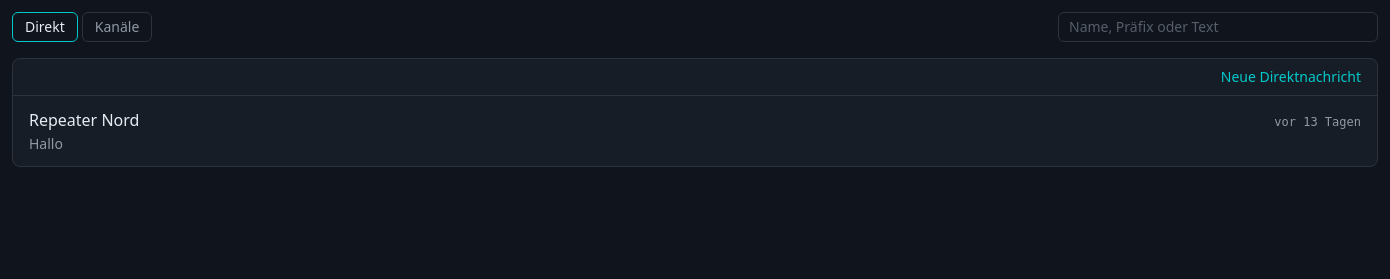
Scenario: Nachrichtenseite areas › opens a thread with compose inside, not a global send form
This screenshot has width=1390, height=279.
Expected: the heading "Senden" is not shown
Step 1. Click the text "Repeater Nord" → click(84, 120), box [29,109,139,131]
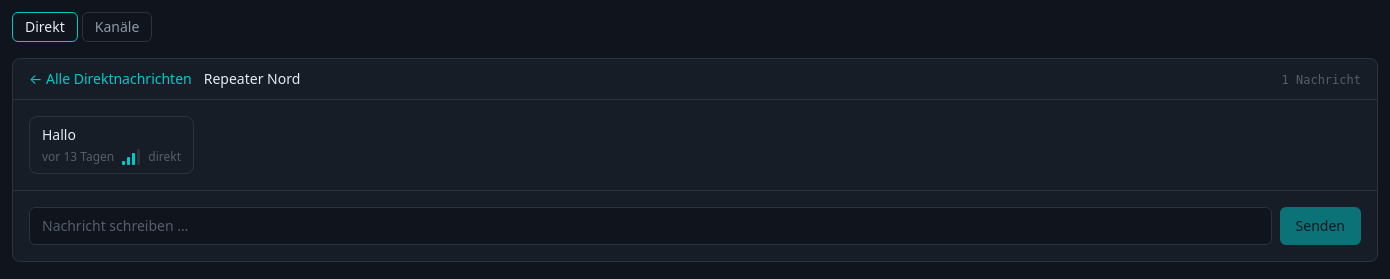
Expected: the field labelled "Nachricht" is shown, [29,207,1272,245]
Expected: the button "← Alle Direktnachrichten" is shown, [29,69,192,89]
